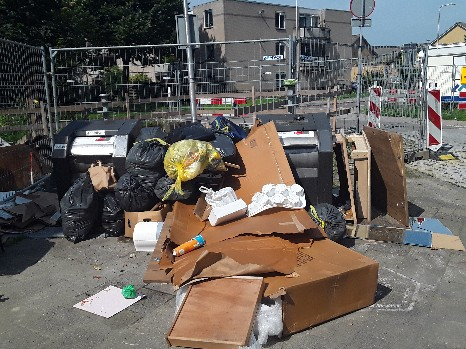Container: (256, 110, 334, 191), (63, 122, 136, 175)
Papier: (254, 224, 378, 308), (172, 269, 265, 348), (163, 215, 267, 285), (235, 129, 294, 235), (369, 123, 426, 217)
Rest: (341, 127, 382, 238), (151, 141, 231, 194), (70, 180, 130, 237), (50, 175, 103, 238), (177, 111, 243, 149), (106, 183, 180, 213), (142, 134, 170, 195)
